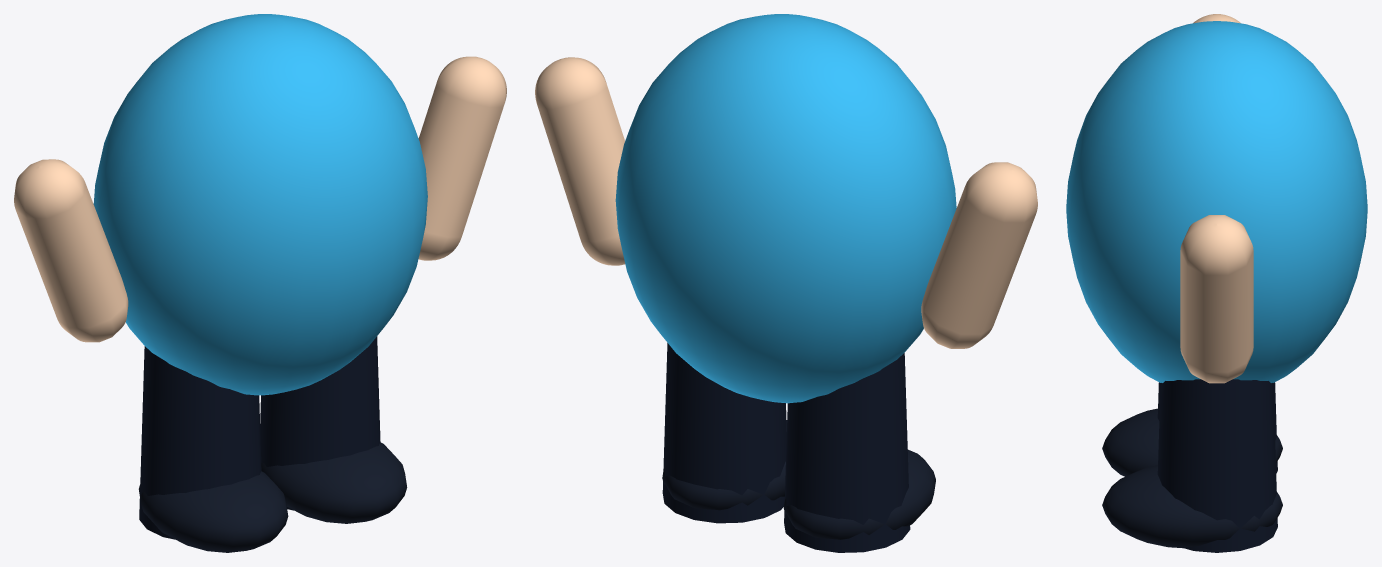
3 renders of one model, left to right at view 1: azimuth 30°, elevation 25°; view 2: azimuth 150°, elevation 25°; view 3: azimuth 270°, elevation 25°, orthographic. The views are drawn at different scales.
Parts seen in each view (by area): view 1: shirt, skin (×2), pants (×2), object 3, object 5; view 2: shirt, pants (×2), skin (×2), object 3, object 5; view 3: shirt, pants, skin, object 5, object 3.
Part boxes in pixels (x1=…): shirt: x1=93, y1=14, x2=427, y2=395; skin (×2): x1=14, y1=56, x2=506, y2=342; pants (×2): x1=139, y1=336, x2=380, y2=539; object 3: x1=138, y1=471, x2=288, y2=552; object 5: x1=261, y1=442, x2=407, y2=523; shirt: x1=615, y1=14, x2=956, y2=403; pants (×2): x1=662, y1=343, x2=910, y2=552; skin (×2): x1=535, y1=57, x2=1037, y2=348; object 3: x1=783, y1=449, x2=935, y2=539; object 5: x1=662, y1=420, x2=787, y2=510; shirt: x1=1066, y1=21, x2=1367, y2=382; pants: x1=1157, y1=379, x2=1277, y2=552; skin: x1=1180, y1=215, x2=1253, y2=383; object 5: x1=1102, y1=465, x2=1282, y2=548; object 3: x1=1102, y1=408, x2=1282, y2=476.
Size of the model in its own units: 17.84 by 17.24 by 9.9.
